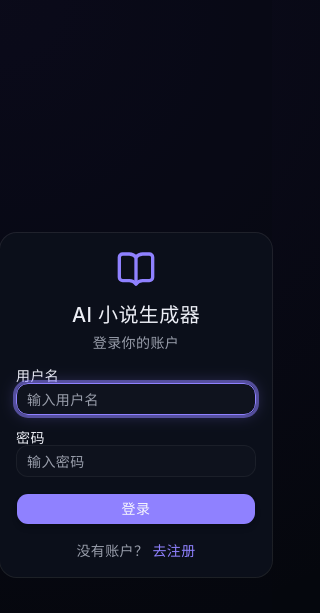
Test: LoginPage › shows error when submitting empty form
The width and height of the screenshot is (320, 613).
Click the button "登录".
click(136, 509)  # box [16, 493, 256, 525]
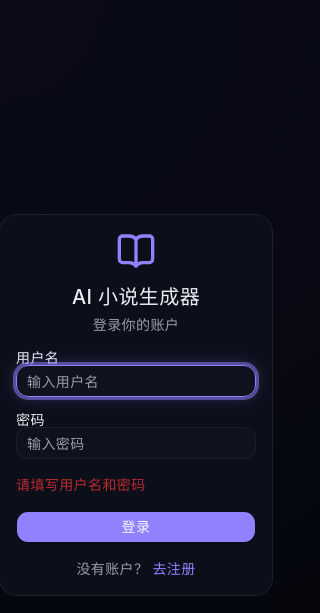
Result: the text "请填写用户名和密码" is shown at [16, 476, 146, 493]
